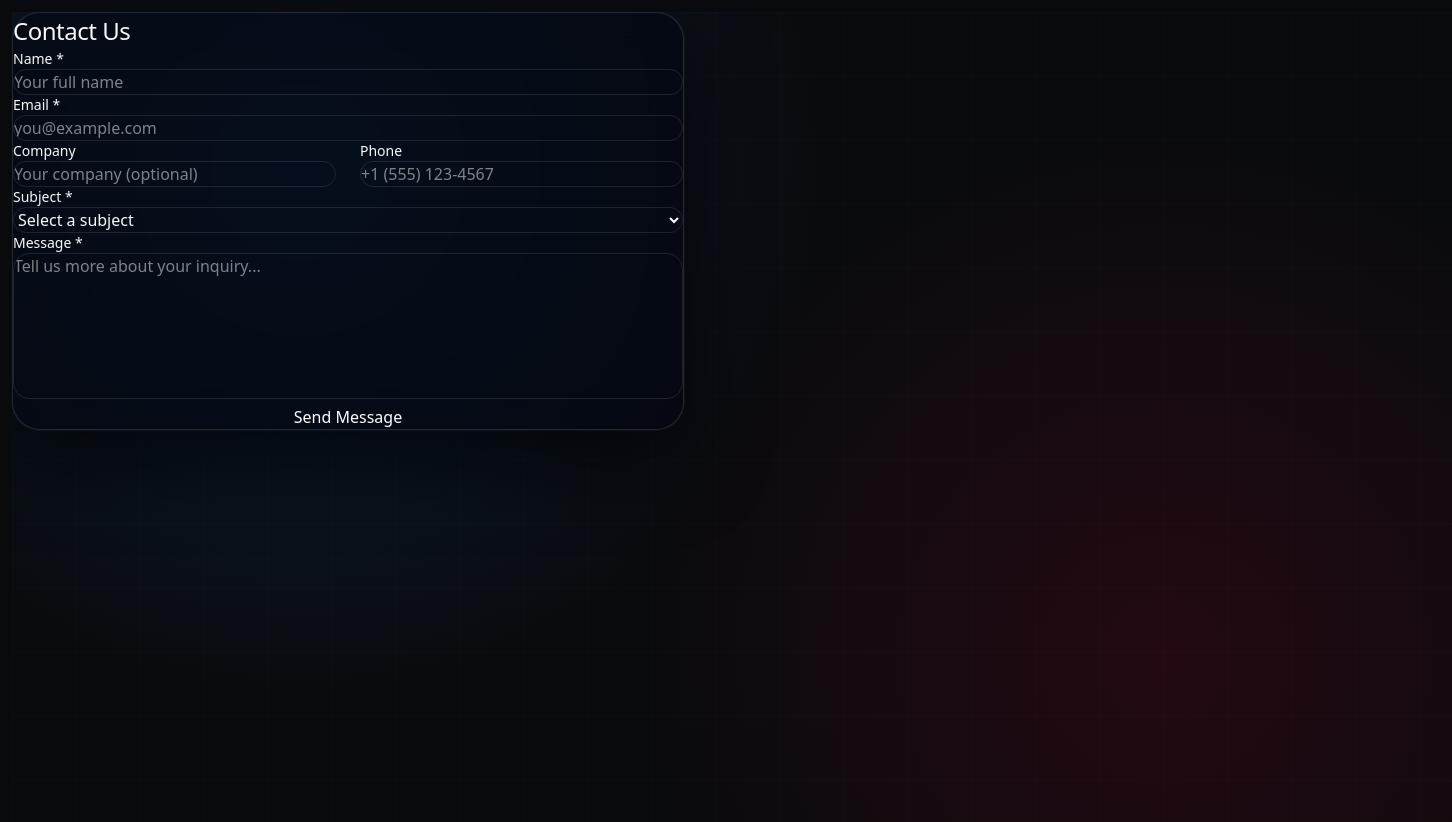
Test: ContactForm › shows validation errors when submitting empty form
Step 1. Click the button "Send Message" → x=348, y=417, box left=13, top=405, right=683, bottom=429
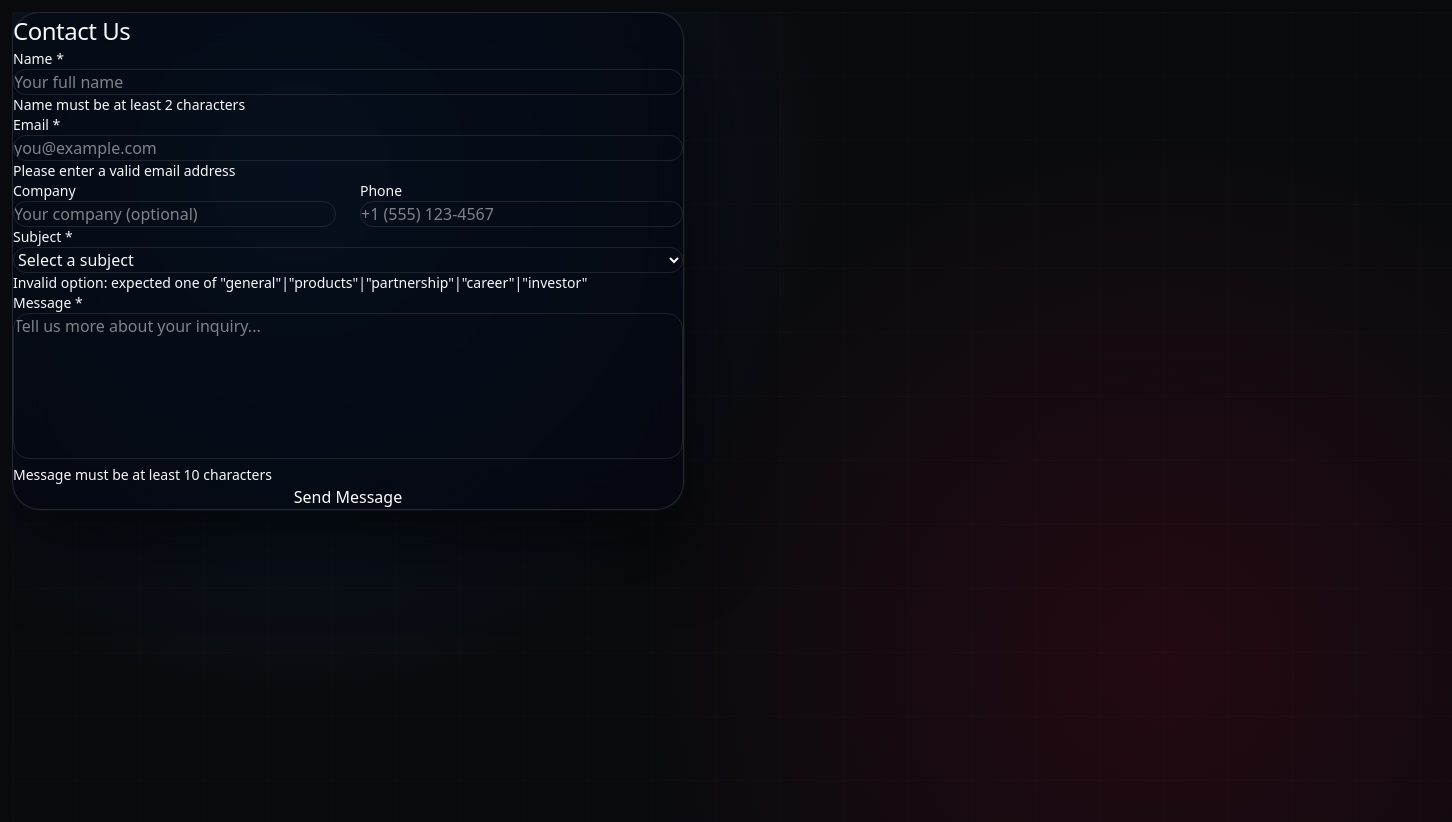
Expected: the text "Name must be at least 2 characters" is shown, left=13, top=95, right=245, bottom=114
Expected: the text "Please enter a valid email address" is shown, left=13, top=161, right=236, bottom=180
